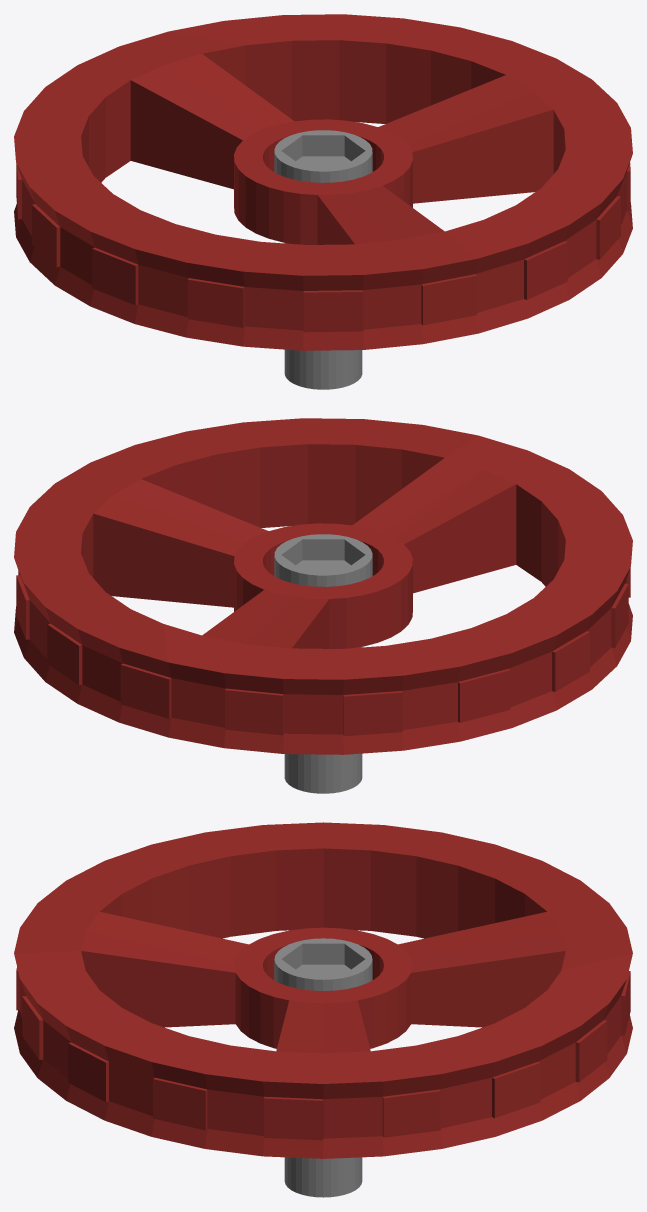
Rendered from Valve Turn.blend.fbx.
The picture shows the model from 3 angles, top to bottom: view 1: azimuth 30°, elevation 25°; view 2: azimuth 150°, elevation 25°; view 3: azimuth 270°, elevation 25°; orthographic projection.
Visible parts, largest first — view 1: Cylinder.002, Cylinder.003, Cylinder; view 2: Cylinder.002, Cylinder.003, Cylinder; view 3: Cylinder.002, Cylinder.003, Cylinder.
Boxes of the visible parts, x1,y1,x2,y2 form: Cylinder.002: (14, 14, 632, 350); Cylinder.003: (274, 130, 372, 182); Cylinder: (284, 243, 362, 389); Cylinder.002: (14, 418, 632, 754); Cylinder.003: (274, 534, 372, 586); Cylinder: (284, 647, 362, 793); Cylinder.002: (14, 822, 632, 1158); Cylinder.003: (274, 938, 372, 990); Cylinder: (284, 1157, 362, 1197).
Bounding box in the file's own units: 171 × 70.27 × 171.
